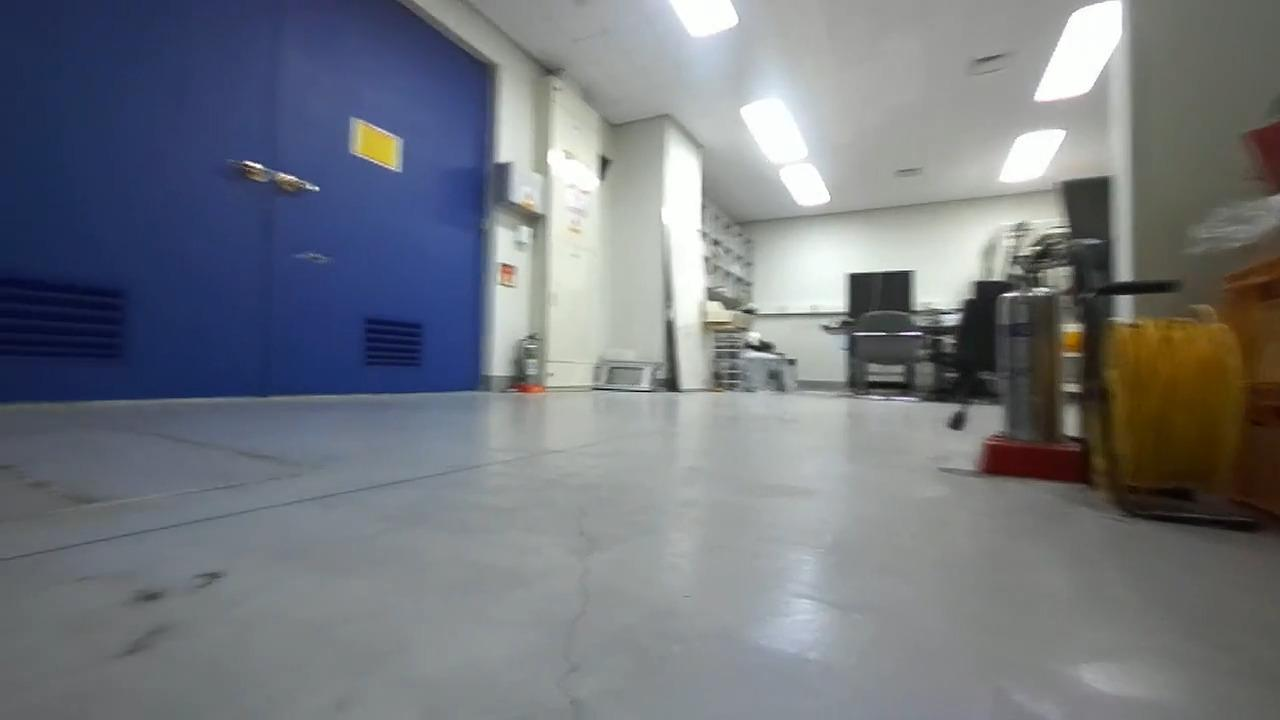crazyflie: (289, 245, 338, 268)
